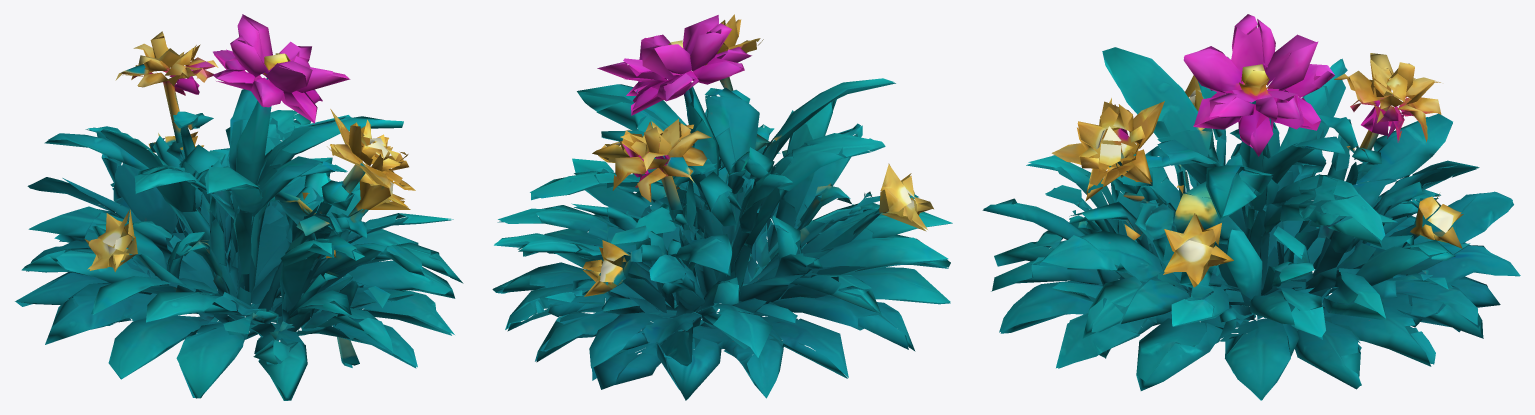
File: TripoFlowerBush.fbx
The picture shows the model from 3 angles, left to right: view 1: azimuth 30°, elevation 25°; view 2: azimuth 150°, elevation 25°; view 3: azimuth 270°, elevation 25°; orthographic projection. The views are drawn at different scales.
Visible parts, largest first — view 1: TripoFlowerBush; view 2: TripoFlowerBush; view 3: TripoFlowerBush.
Boxes of the visible parts, x1,y1,x2,y2 form: TripoFlowerBush: (15, 14, 463, 400); TripoFlowerBush: (492, 14, 952, 400); TripoFlowerBush: (982, 14, 1520, 400).
Size of the model in its own units: 1.96 by 2.24 by 1.45.
Materials: 1 (1 with a texture image).
